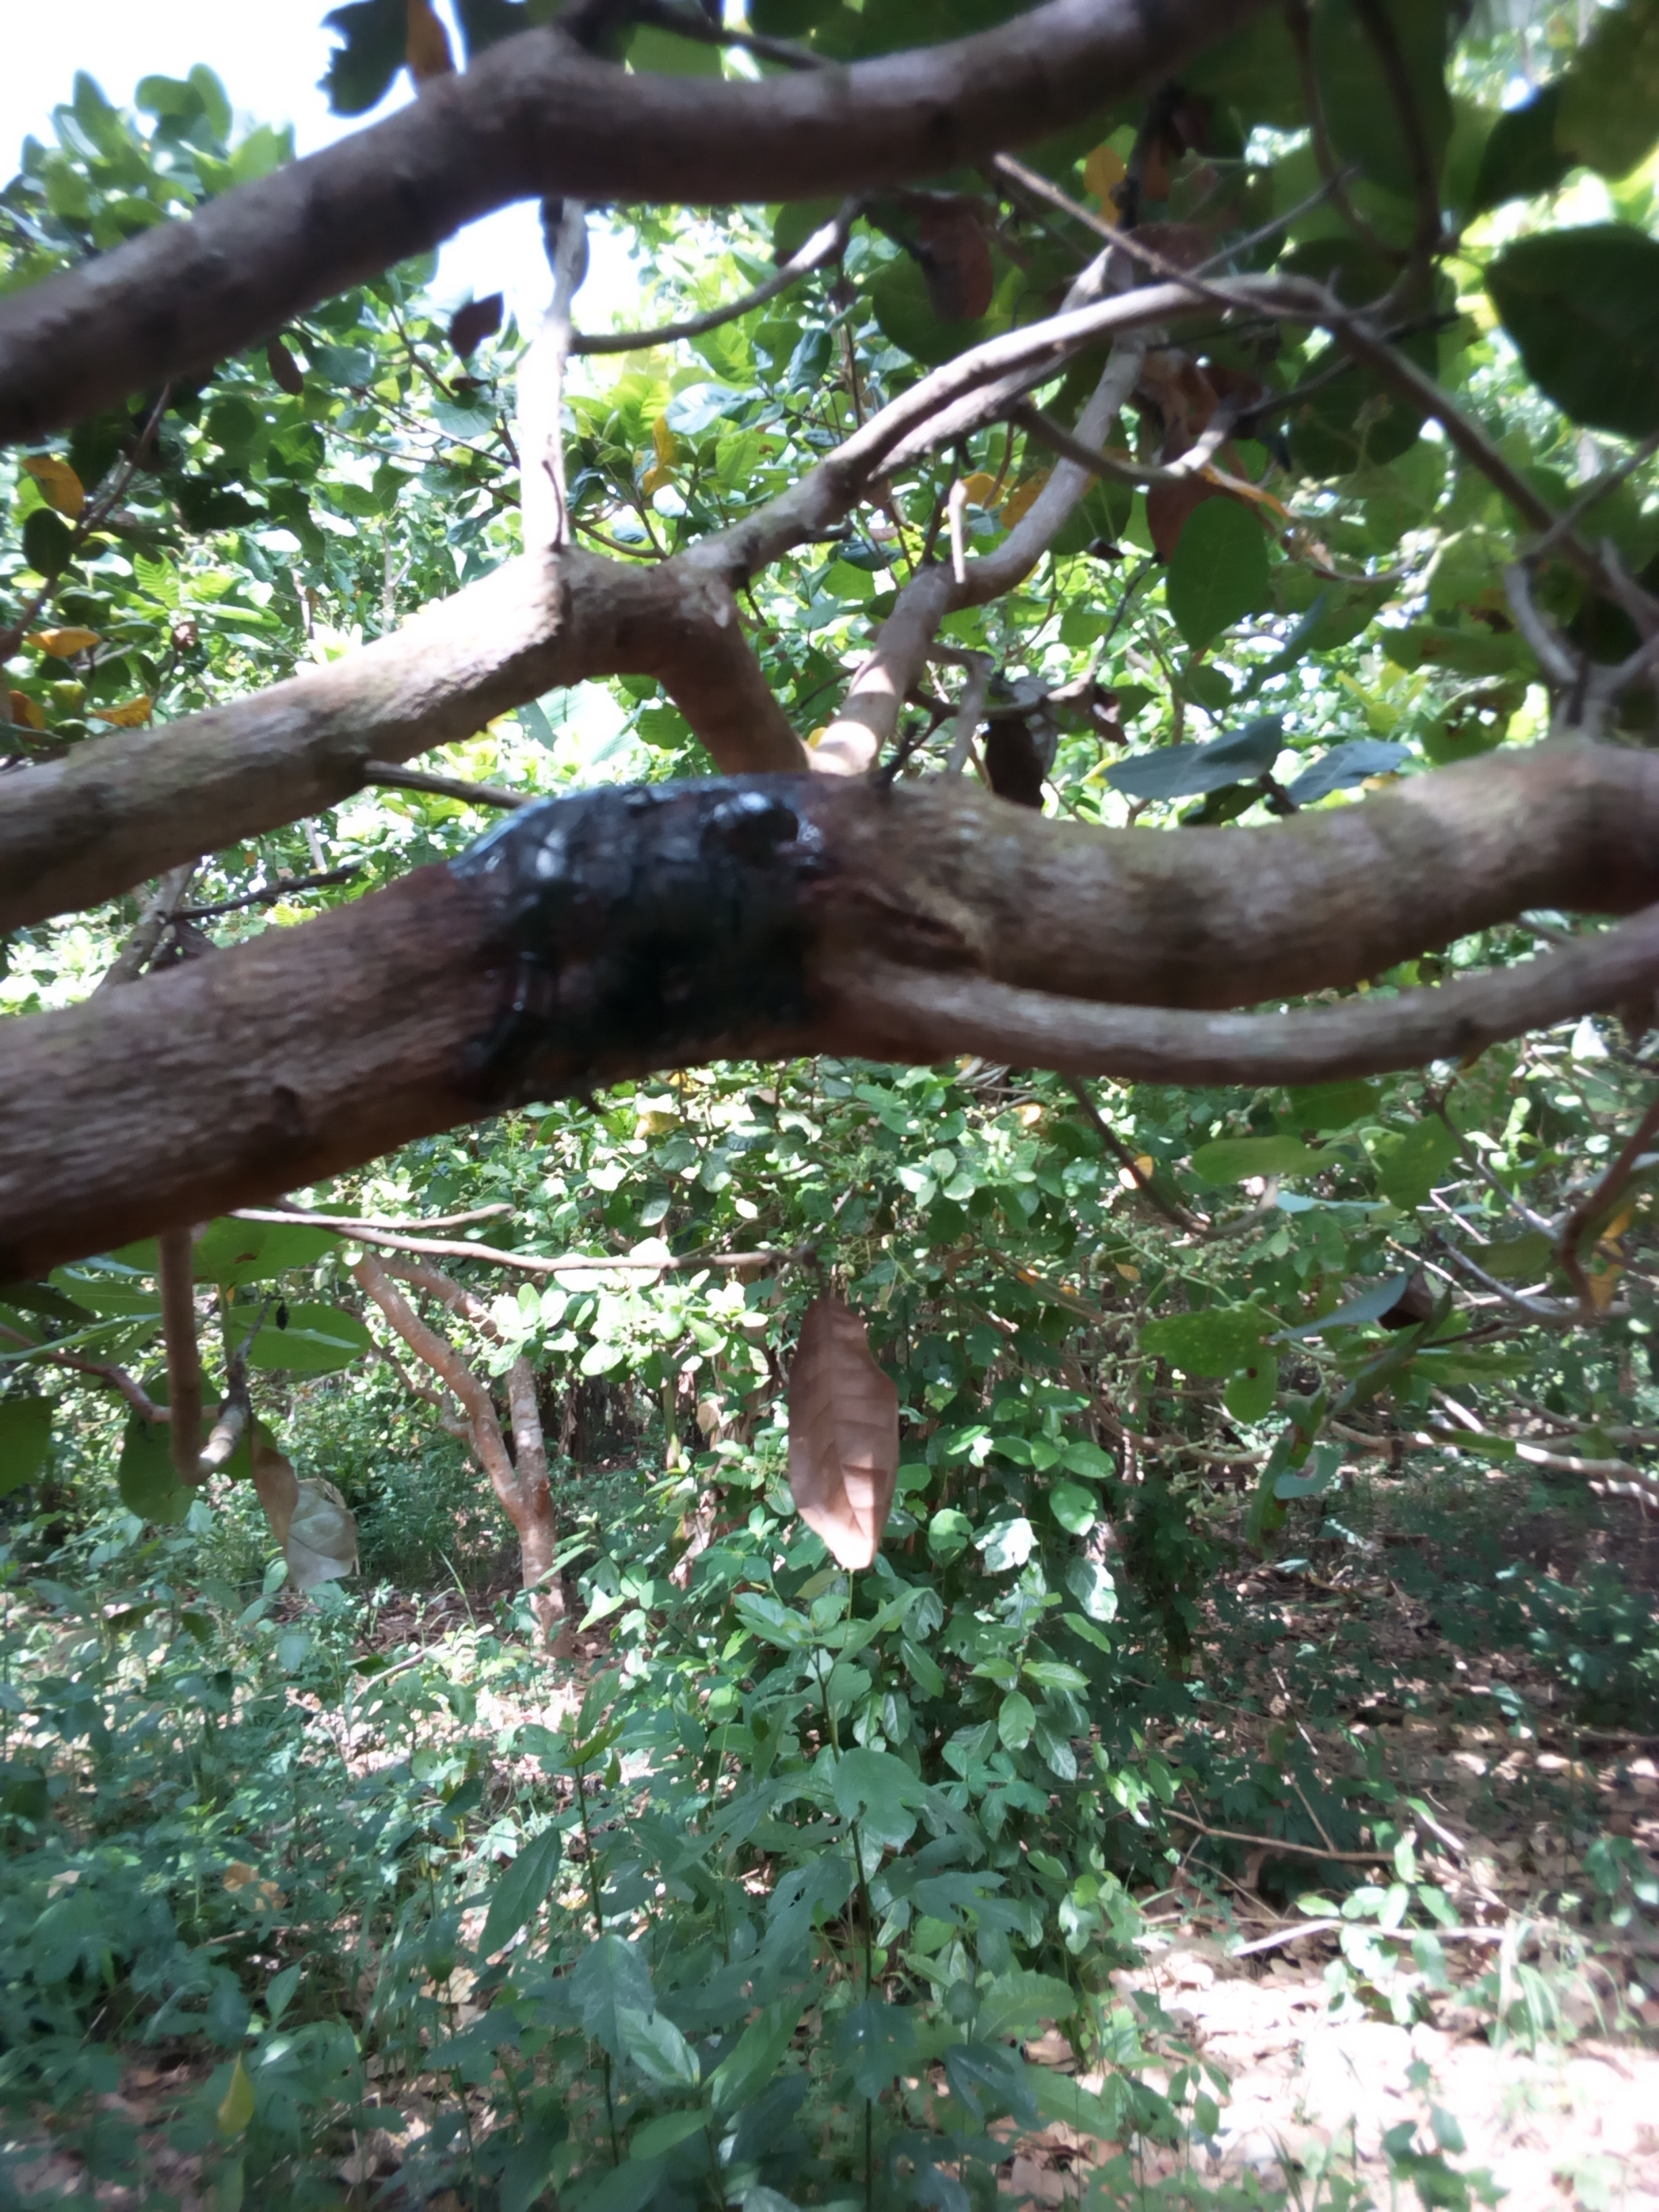Mecocorynus longiceps: (432, 723, 873, 1035)
